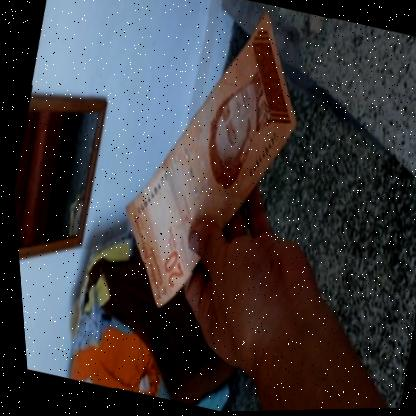twenty-front-vef: (84, 0, 333, 336)
